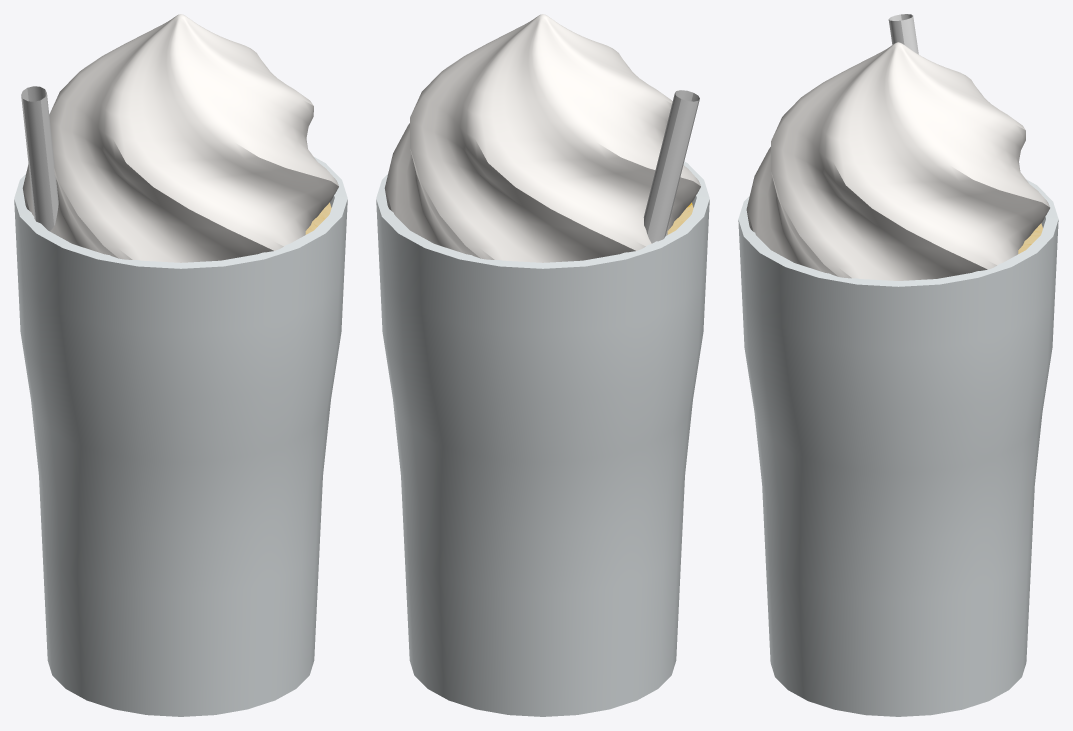
File: glass_banana.fbx
The picture shows the model from 3 angles, left to right: view 1: azimuth 30°, elevation 25°; view 2: azimuth 150°, elevation 25°; view 3: azimuth 270°, elevation 25°; orthographic projection. The views are drawn at different scales.
Visible parts, largest first — view 1: glass, deco_cream, straw; view 2: glass, deco_cream, straw; view 3: glass, deco_cream, straw.
Boxes of the visible parts, x1,y1,x2,y2 form: glass: [14, 157, 347, 716]; deco_cream: [22, 14, 338, 262]; straw: [21, 86, 58, 231]; glass: [376, 161, 709, 716]; deco_cream: [384, 14, 700, 262]; straw: [643, 90, 699, 243]; glass: [738, 179, 1058, 716]; deco_cream: [746, 42, 1050, 280]; straw: [888, 14, 918, 54].
Size of the model in its own units: 93.82 by 192 by 90.
Materials: 4 (1 with a texture image).
